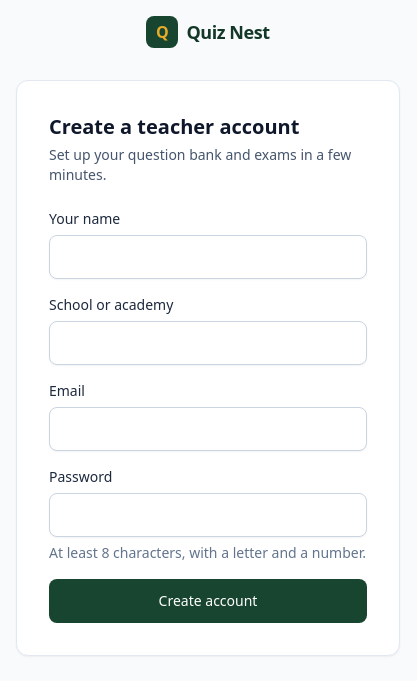
Test: RegisterPage › tells the teacher to wait when admins must approve new accounts
Expected: the heading "Create a teacher account" is shown, [49, 113, 299, 140]
In the field labelled "Your name": (208, 257) [49, 235, 367, 279], type "Bilal Ahmed"
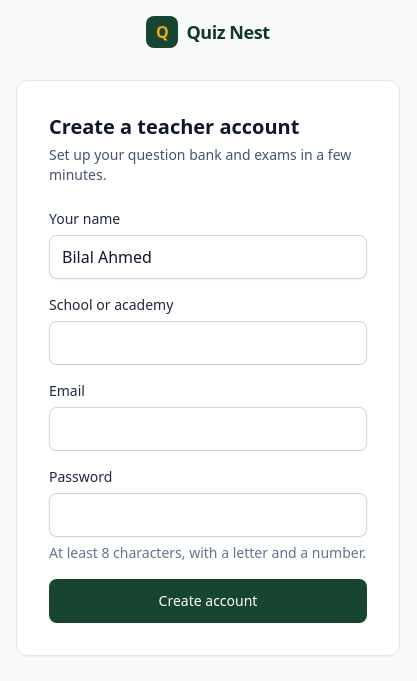
In the field labelled "School or academy": (208, 343) [49, 321, 367, 365], type "Model School"
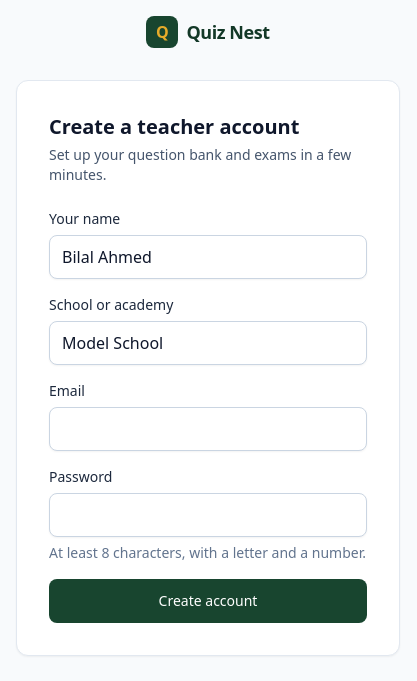
In the field labelled "Email": (208, 429) [49, 407, 367, 451], type "bilal@school.test"
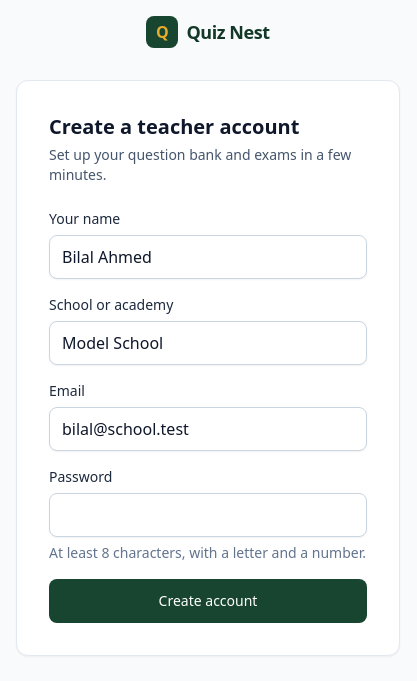
In the password field labelled "Password": (208, 515) [49, 493, 367, 537], type "secret123"
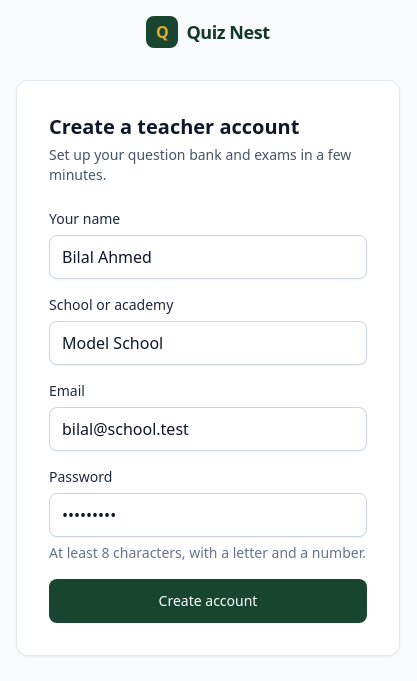
Click the button "Create account": (208, 601) [49, 579, 367, 623]
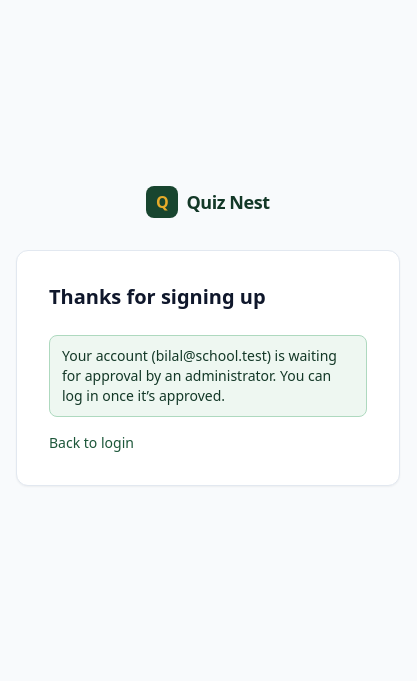
Expected: the text "is waiting for approval by an administrator" is shown, [62, 346, 337, 405]
Expected: the text "bilal@school.test" is shown, [156, 346, 267, 365]
